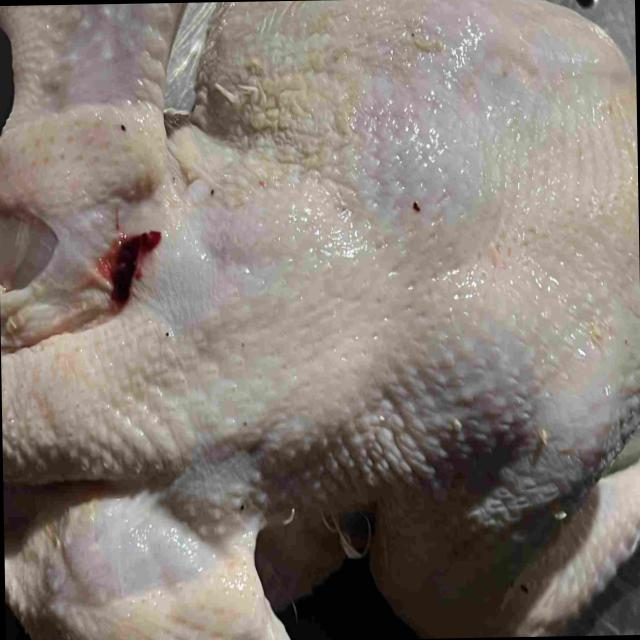back: (154, 18, 640, 495)
leg: (356, 466, 640, 638), (198, 0, 495, 125)
neck: (1, 326, 143, 514)
wing: (0, 2, 191, 353), (3, 452, 296, 640)
